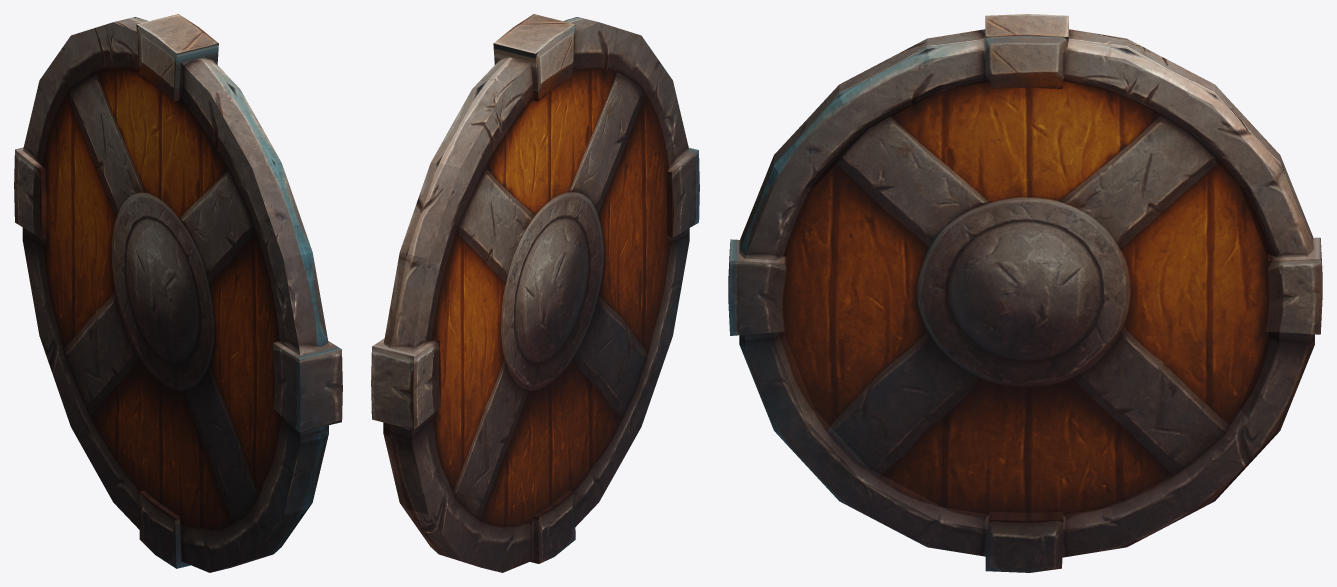
Rendered from Shield_Deco.fbx.
3 views of the same model, side by side, from view 1: azimuth 30°, elevation 25°; view 2: azimuth 150°, elevation 25°; view 3: azimuth 270°, elevation 25° (orthographic). The views are drawn at different scales.
Visible parts, largest first — view 1: Shield_Deco; view 2: Shield_Deco; view 3: Shield_Deco.
Part boxes in pixels (x1,y1,x2,y2): Shield_Deco: (14,14,342,572); Shield_Deco: (371,14,699,572); Shield_Deco: (728,14,1322,572).
Bounding box in the file's own units: 4.52 × 53.03 × 53.12.
